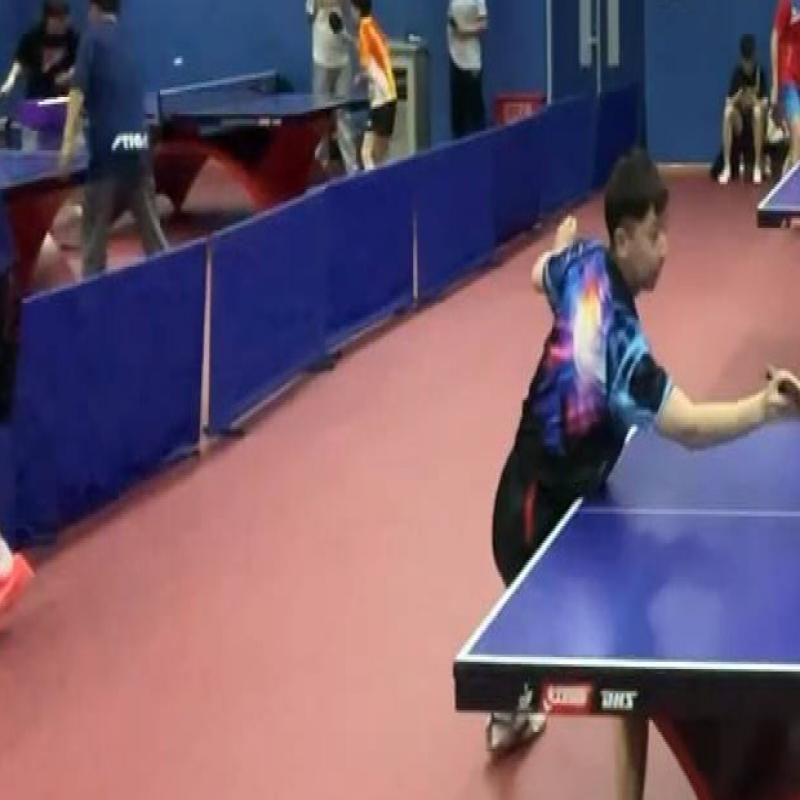bats: (758, 361, 800, 436)
